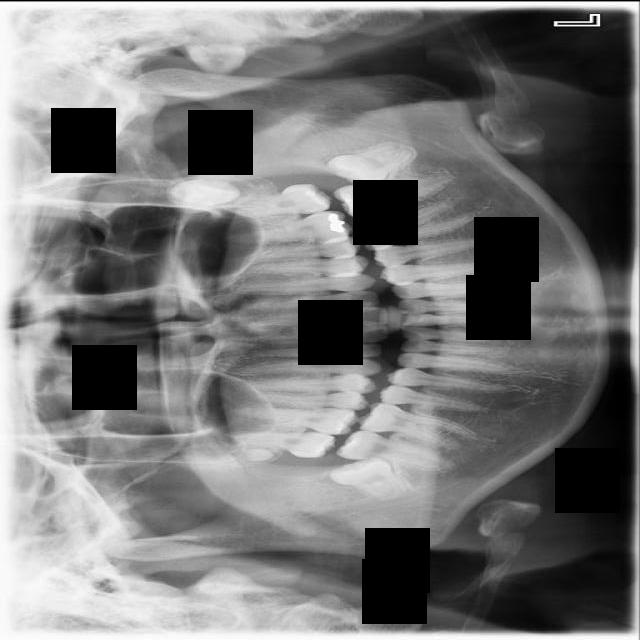3M ESPE Implant: (231, 446, 277, 464)
52: (301, 201, 355, 252)
73: (602, 52, 603, 64)
BioHorizons Implant: (209, 180, 331, 220)
BioLife Implant: (171, 175, 242, 213)
Biomet 3i Implant: (324, 136, 418, 195)
Blue Sky Bio Implant: (333, 172, 456, 220)
Caries: (223, 428, 337, 459)
Implant: (335, 426, 454, 471)
Keystone Dental Implant: (326, 450, 408, 508)
